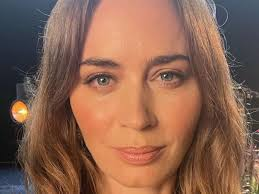n.blunt: (118, 80, 155, 131)
